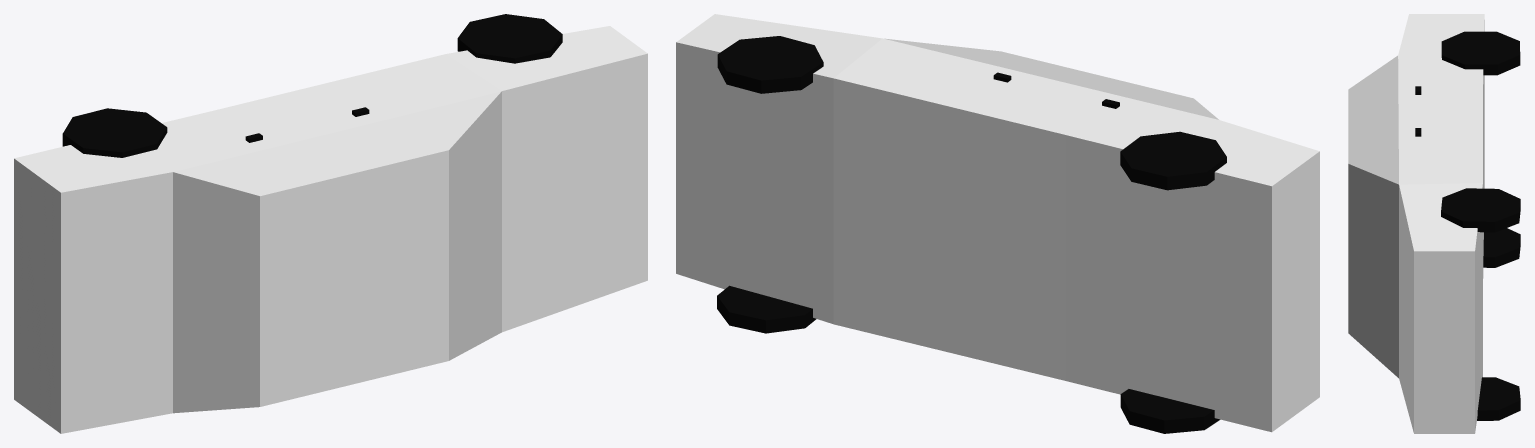
File: simple_car.glb
The picture shows the model from 3 angles, left to right: view 1: azimuth 30°, elevation 25°; view 2: azimuth 150°, elevation 25°; view 3: azimuth 270°, elevation 25°; orthographic projection. The views are drawn at different scales.
Visible parts, largest first — view 1: car; view 2: car; view 3: car.
Boxes of the visible parts, left/top/right/bottom form: car: left=14, top=14, right=647, bottom=433; car: left=676, top=14, right=1319, bottom=433; car: left=1348, top=14, right=1520, bottom=433.
Bounding box in the file's own units: 4.39 × 1.79 × 1.38.
Materials: 2 (1 with a texture image).
